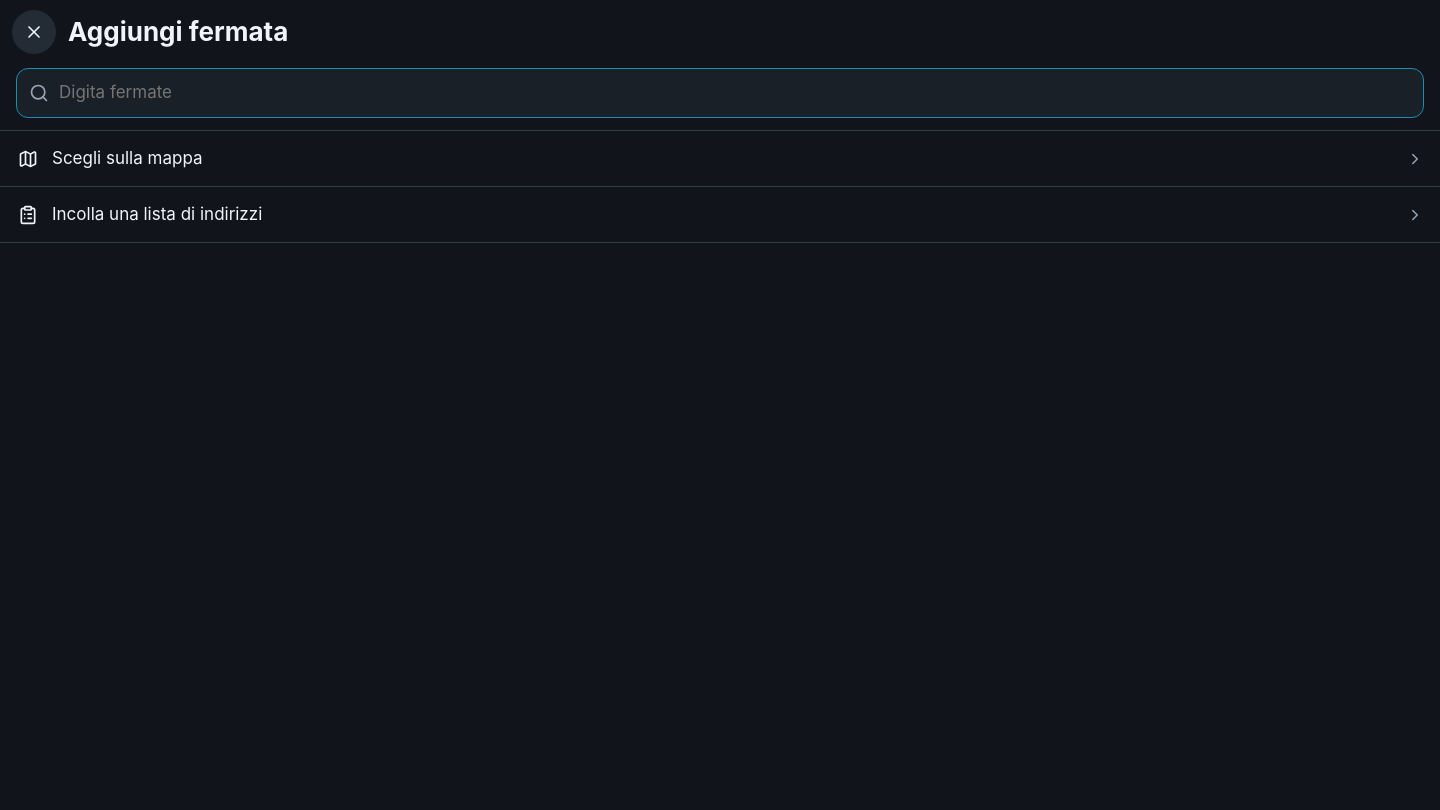
Test: suggerimento con la freccia: completa il nome della via nel campo
The image size is (1440, 810).
Type "via roma" into the field named "Cerca indirizzo" at (736, 93), box [49,69,1423,117]
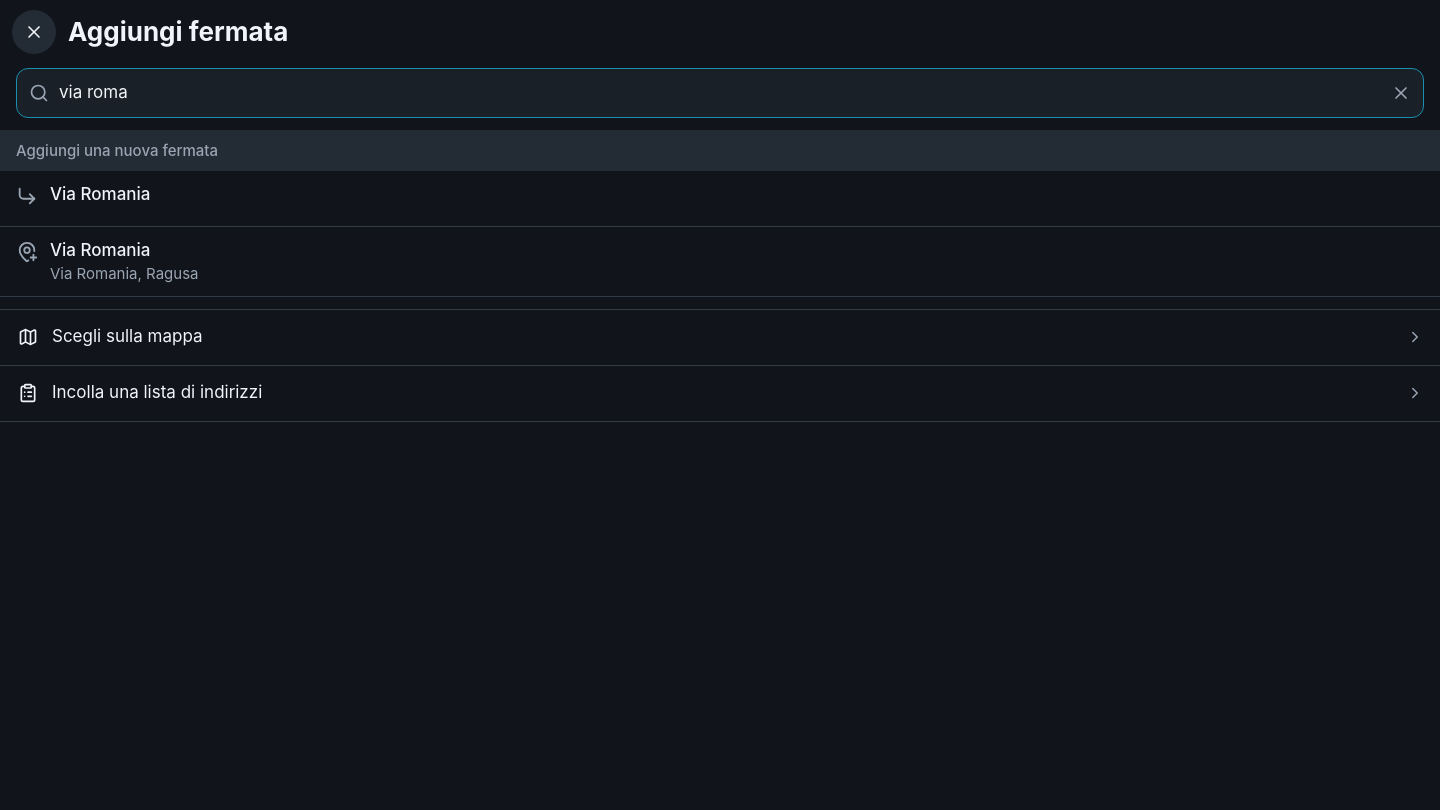
Click the button with aria-label "Completa: Via Romania" at (100, 194), box [0,171,1439,227]
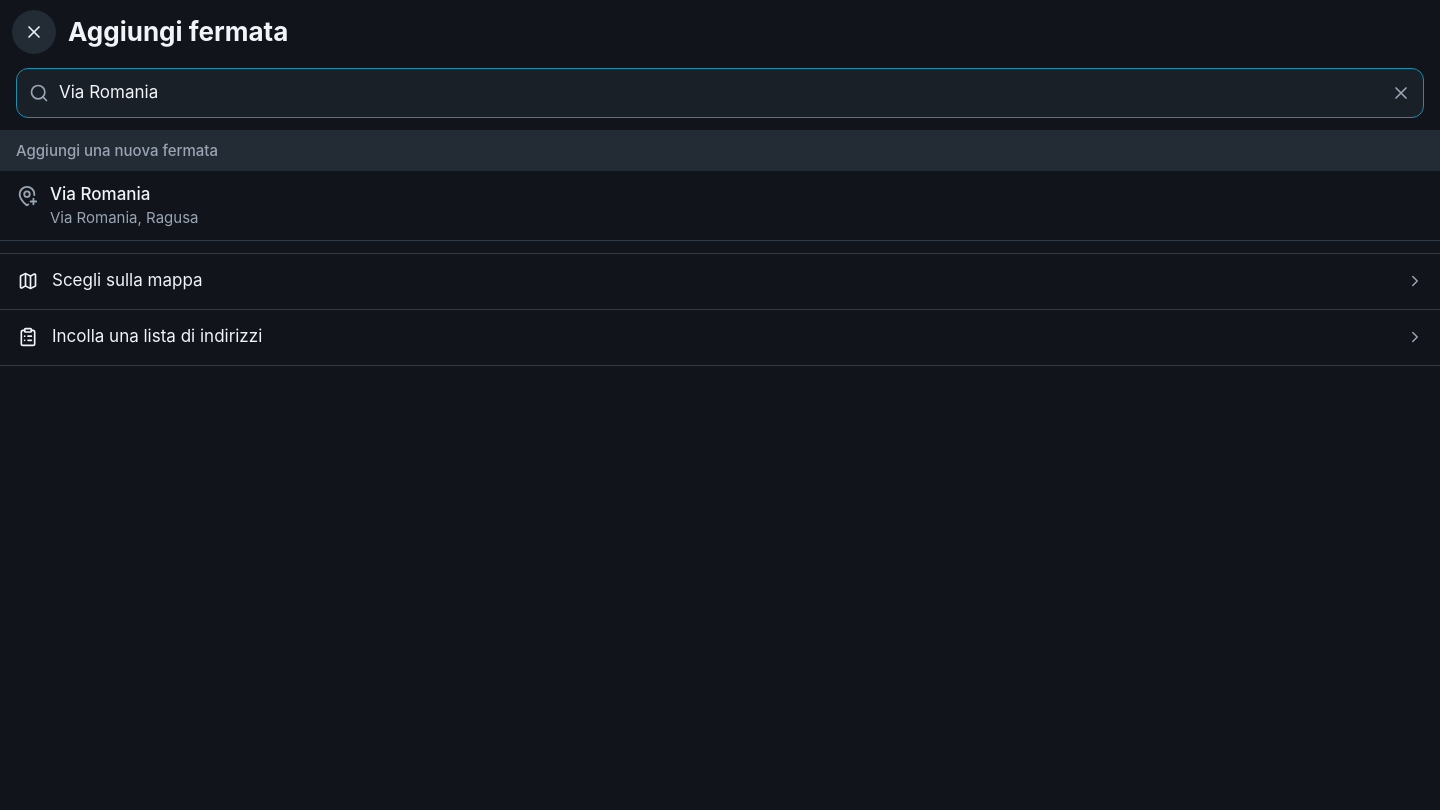
Check: the field named "Cerca indirizzo" holds "Via Romania ", box [49,69,1379,117]
